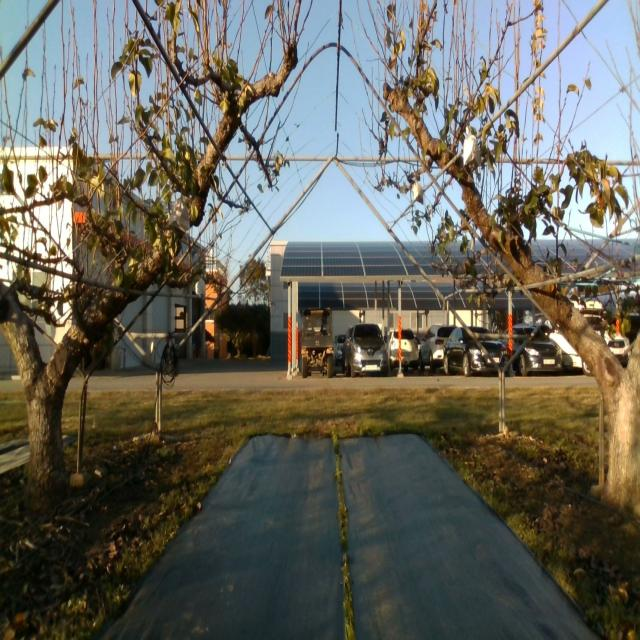pearbags: (167, 196, 190, 237), (463, 127, 482, 165), (413, 181, 424, 205)
